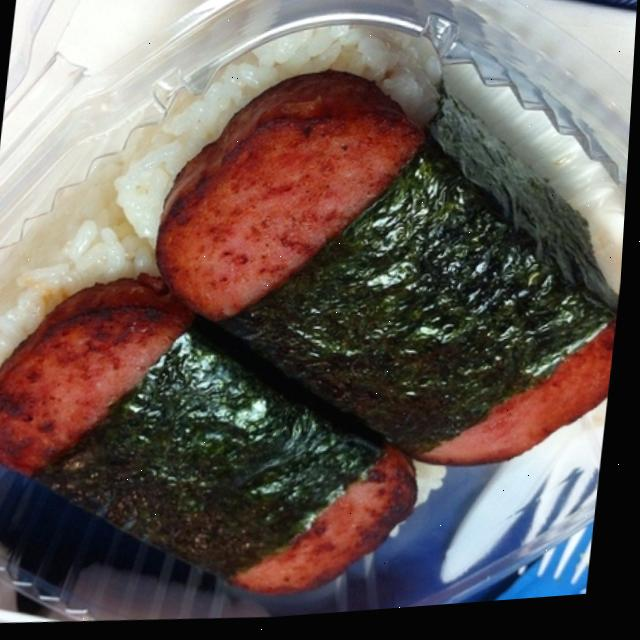寿司卷物: (0, 7, 638, 639)
